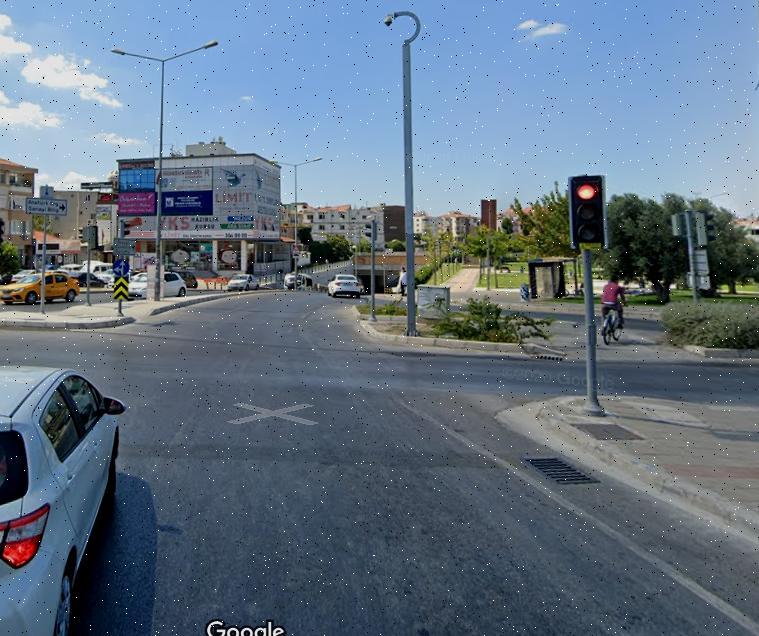redlight: (573, 175, 604, 250)
